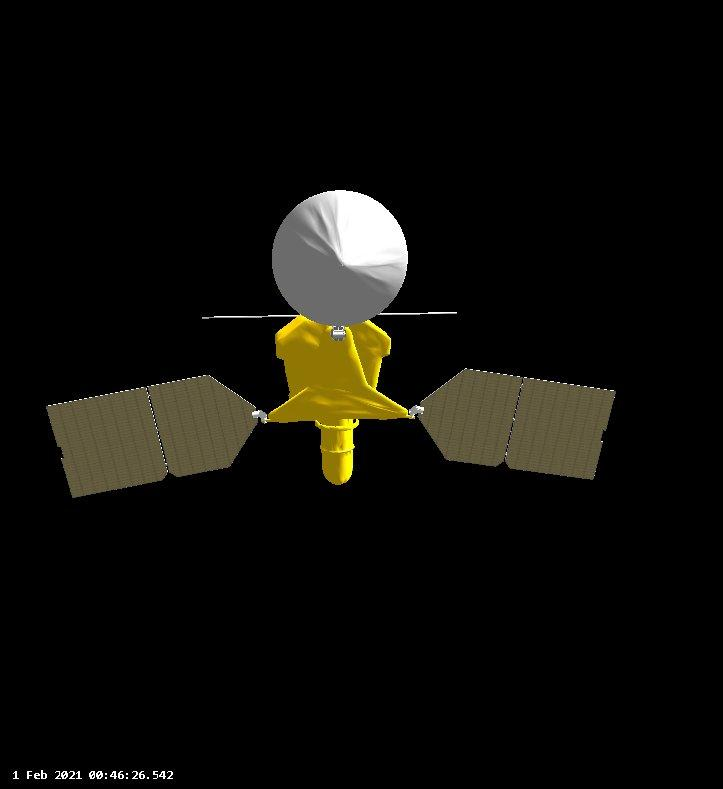antenna: (269, 188, 411, 328)
body: (262, 311, 417, 489)
solar: (44, 367, 269, 501), (409, 360, 619, 485), (197, 308, 461, 323)
